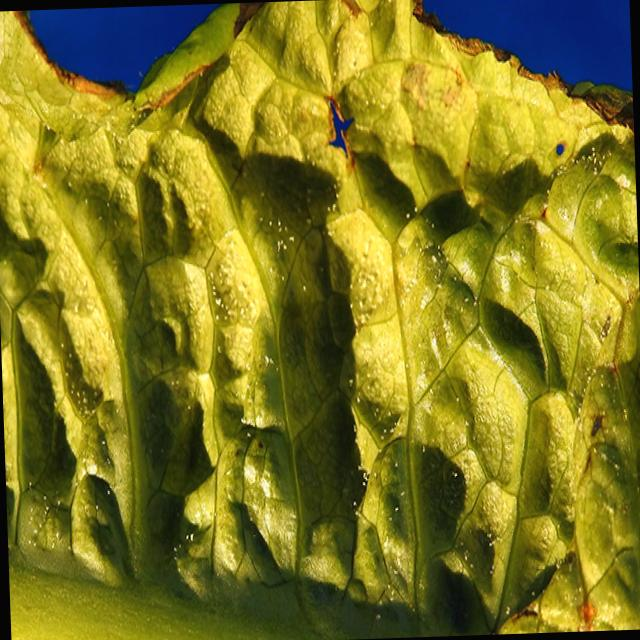Downy_Mildew: (16, 500, 68, 556), (258, 209, 295, 278), (63, 353, 90, 431), (209, 279, 246, 327), (579, 143, 609, 177)
